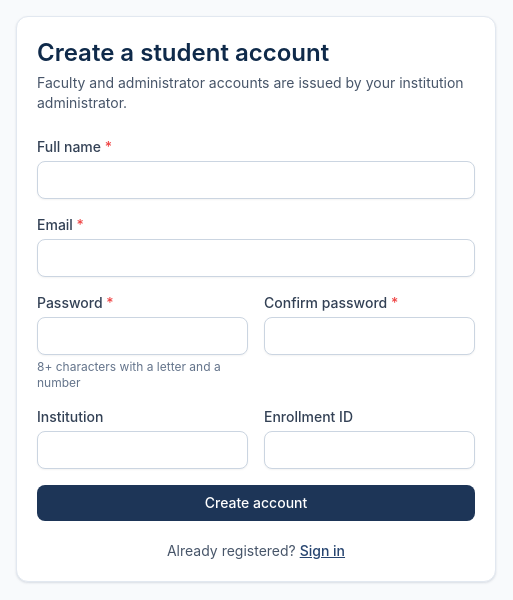
authentication UI › enforces registration password rules and matching confirmation
Step 1. Type "Asha Verma" into the field labelled "Full name *" → (256, 180), box [37, 161, 475, 199]
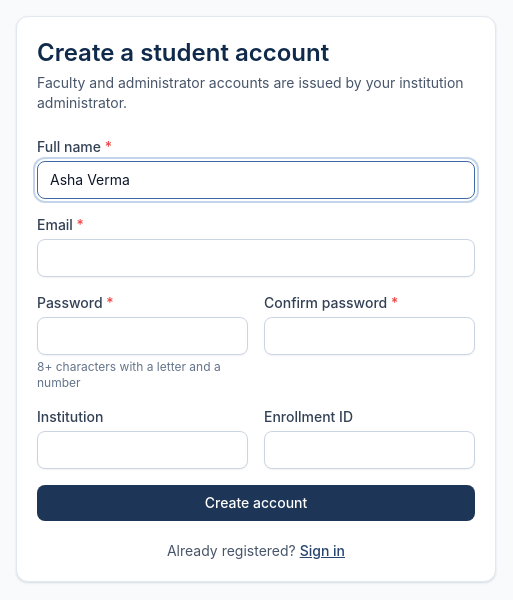
Step 2. Type "asha@law.edu" into the field labelled "Email *" → (256, 258), box [37, 239, 475, 277]
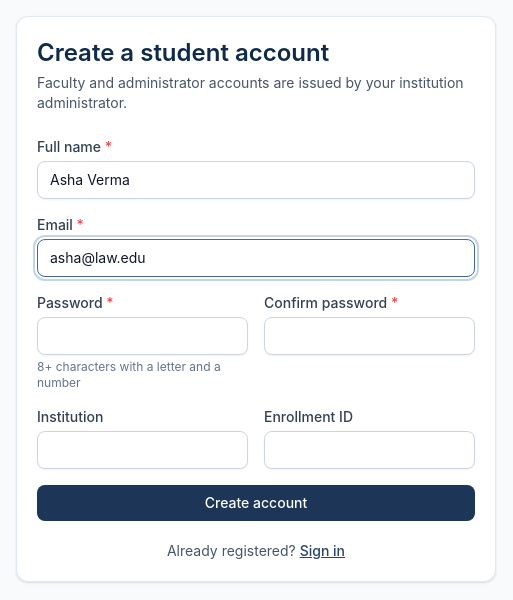
Step 3. Type "short" into the password field labelled "Password *" → (142, 336), box [37, 317, 248, 355]
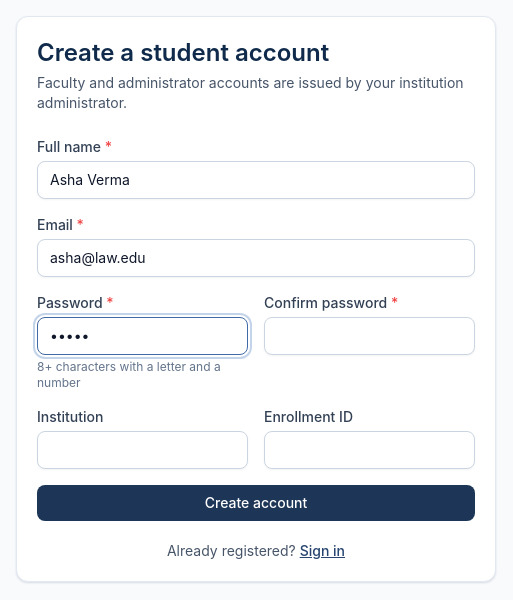
Step 4. Type "different1" into the password field labelled "Confirm password *" → (370, 336), box [264, 317, 475, 355]
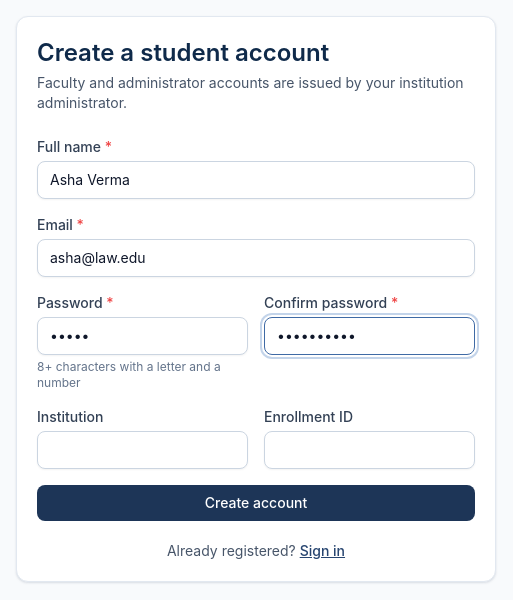
Step 5. Click the button "Create account" → (256, 503), box [37, 485, 475, 521]
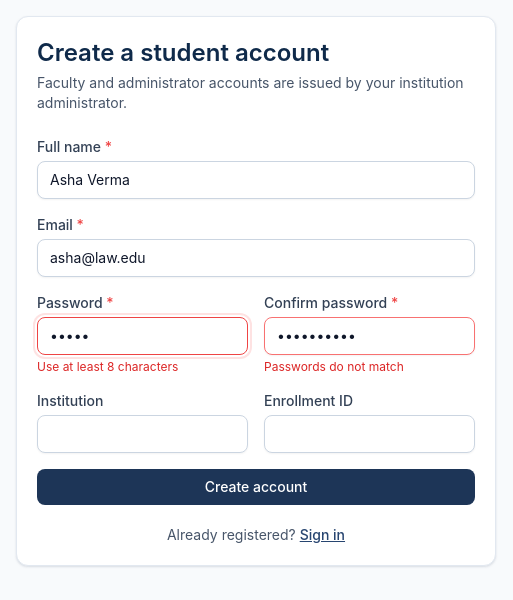
Expected: the text "Use at least 8 characters" is shown, [37, 359, 178, 374]
